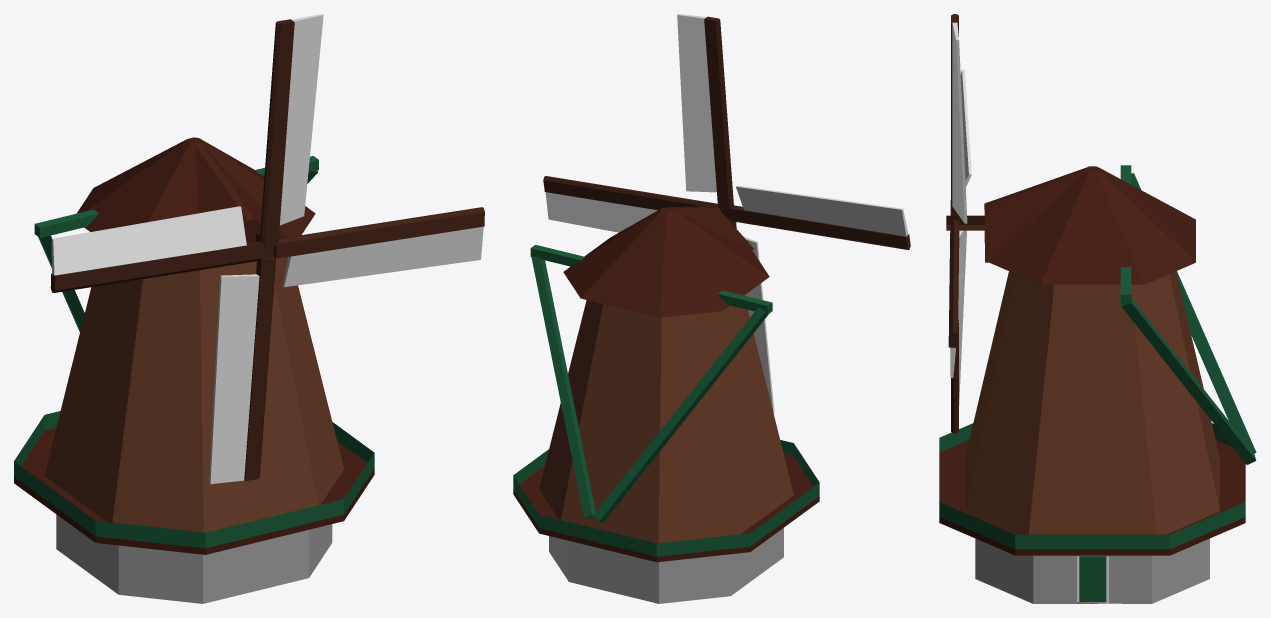
Rendered from windmill01.glb.
The picture shows the model from 3 angles, left to right: view 1: azimuth 30°, elevation 25°; view 2: azimuth 150°, elevation 25°; view 3: azimuth 270°, elevation 25°; orthographic projection. The views are drawn at different scales.
Visible parts, largest first — view 1: Plane, Cube; view 2: Plane, Cube; view 3: Plane, Cube.
Part boxes in pixels (bbox=[...]): Plane: bbox=[14, 137, 374, 603]; Cube: bbox=[50, 14, 484, 484]; Plane: bbox=[513, 206, 819, 603]; Cube: bbox=[543, 14, 910, 412]; Plane: bbox=[939, 165, 1256, 603]; Cube: bbox=[946, 14, 984, 433].
Size of the model in its own units: 4.02 by 5.12 by 2.7.
